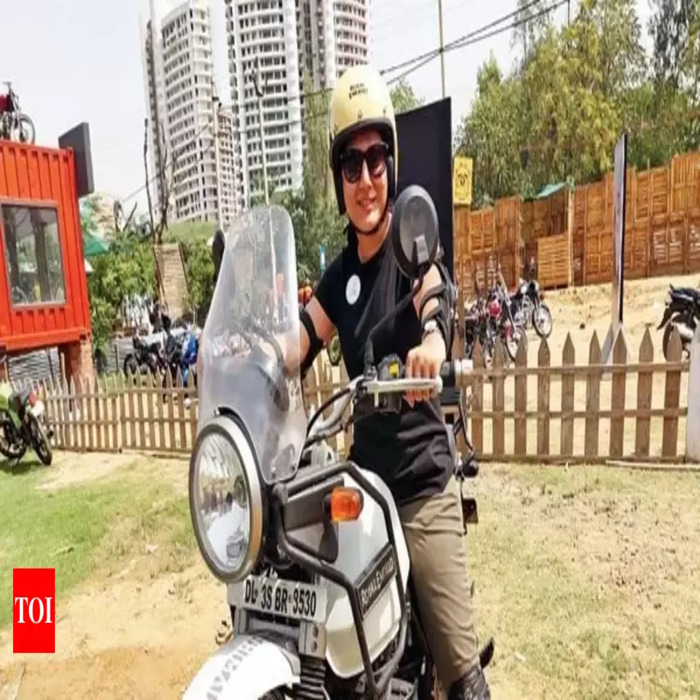h: (323, 65, 401, 182)
n: (239, 571, 327, 626)
